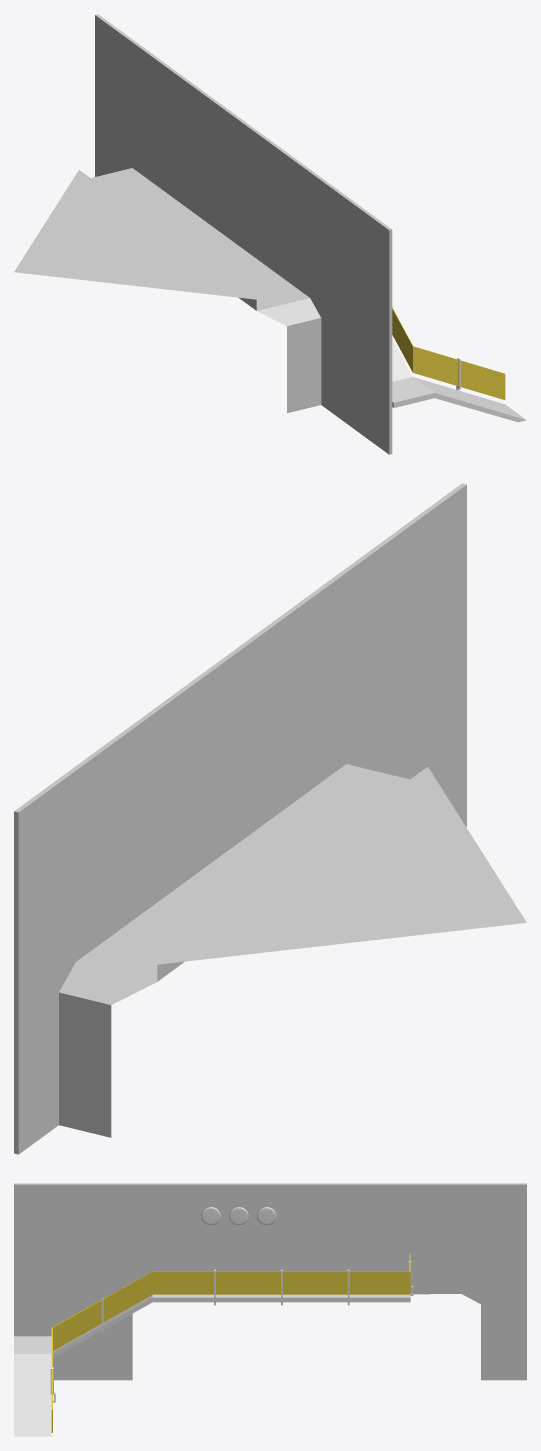
Rendered from stanza_principale.fbx.
3 views of the same model, one above another, from view 1: azimuth 30°, elevation 25°; view 2: azimuth 150°, elevation 25°; view 3: azimuth 270°, elevation 25° (orthographic). The views are drawn at different scales.
Visible parts, largest first — view 1: muro_scalinata; view 2: muro_scalinata; view 3: muro_scalinata.
Boxes of the visible parts, x1,y1,x2,y2 form: muro_scalinata: (14, 14, 526, 454); muro_scalinata: (14, 483, 526, 1154); muro_scalinata: (14, 1183, 526, 1436).
Size of the model in its own units: 624 by 388 by 921.
